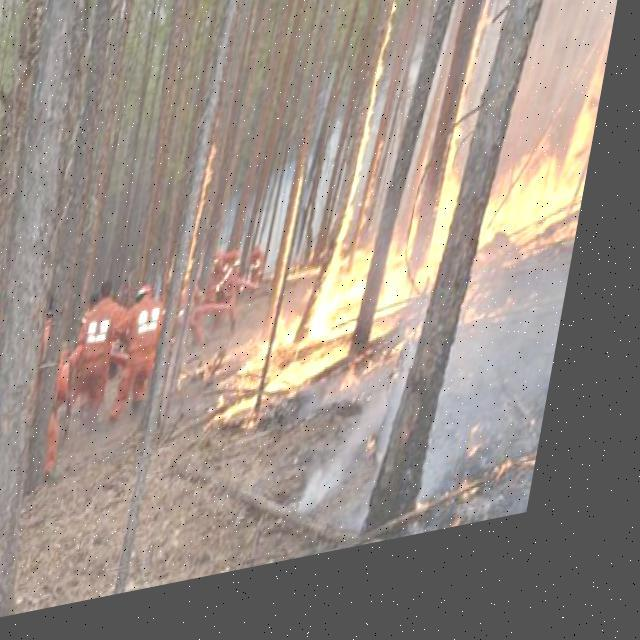Fire: (240, 0, 630, 447), (188, 148, 224, 306)
